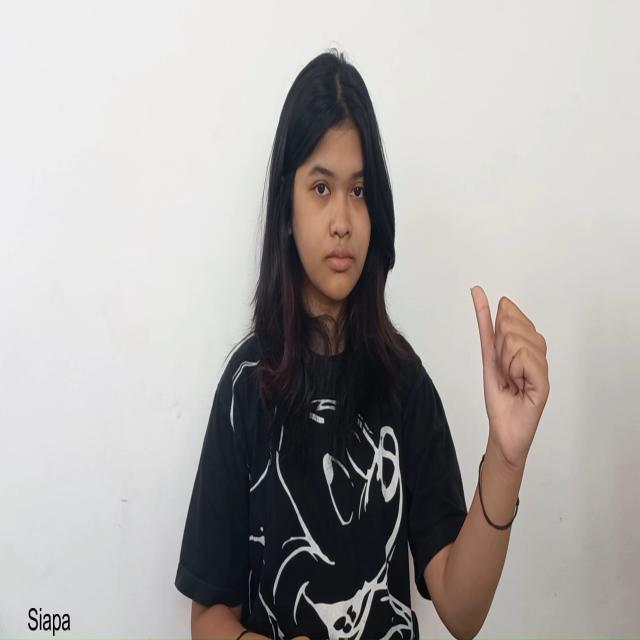Siapa -BISINDO-: (468, 282, 551, 488)
